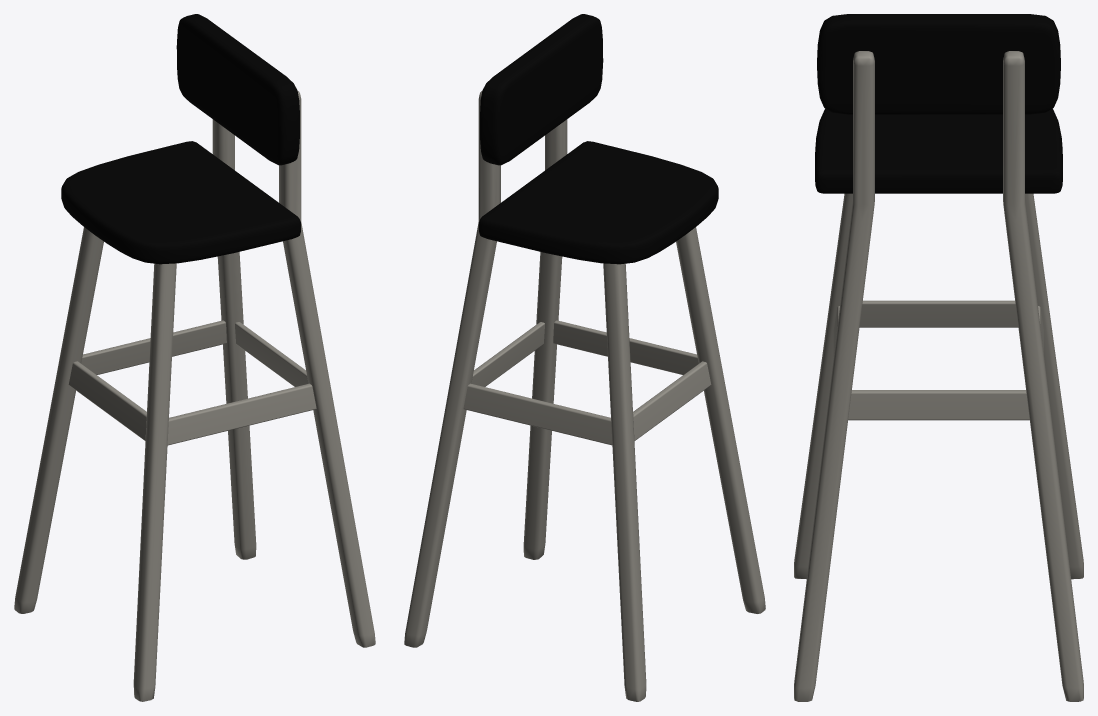
Rendered from barstool_01_metal_black.fbx.
3 views of the same model, side by side, from view 1: azimuth 30°, elevation 25°; view 2: azimuth 150°, elevation 25°; view 3: azimuth 270°, elevation 25° (orthographic). The views are drawn at different scales.
Visible parts, largest first — view 1: barstool_01_metal_black; view 2: barstool_01_metal_black; view 3: barstool_01_metal_black.
Boxes of the visible parts, x1=… form: barstool_01_metal_black: x1=14, y1=14, x2=375, y2=701; barstool_01_metal_black: x1=404, y1=14, x2=765, y2=701; barstool_01_metal_black: x1=794, y1=14, x2=1083, y2=701.
Bounding box in the file's own units: 50.15 × 116 × 47.09.
Materials: 2 (2 with a texture image).
